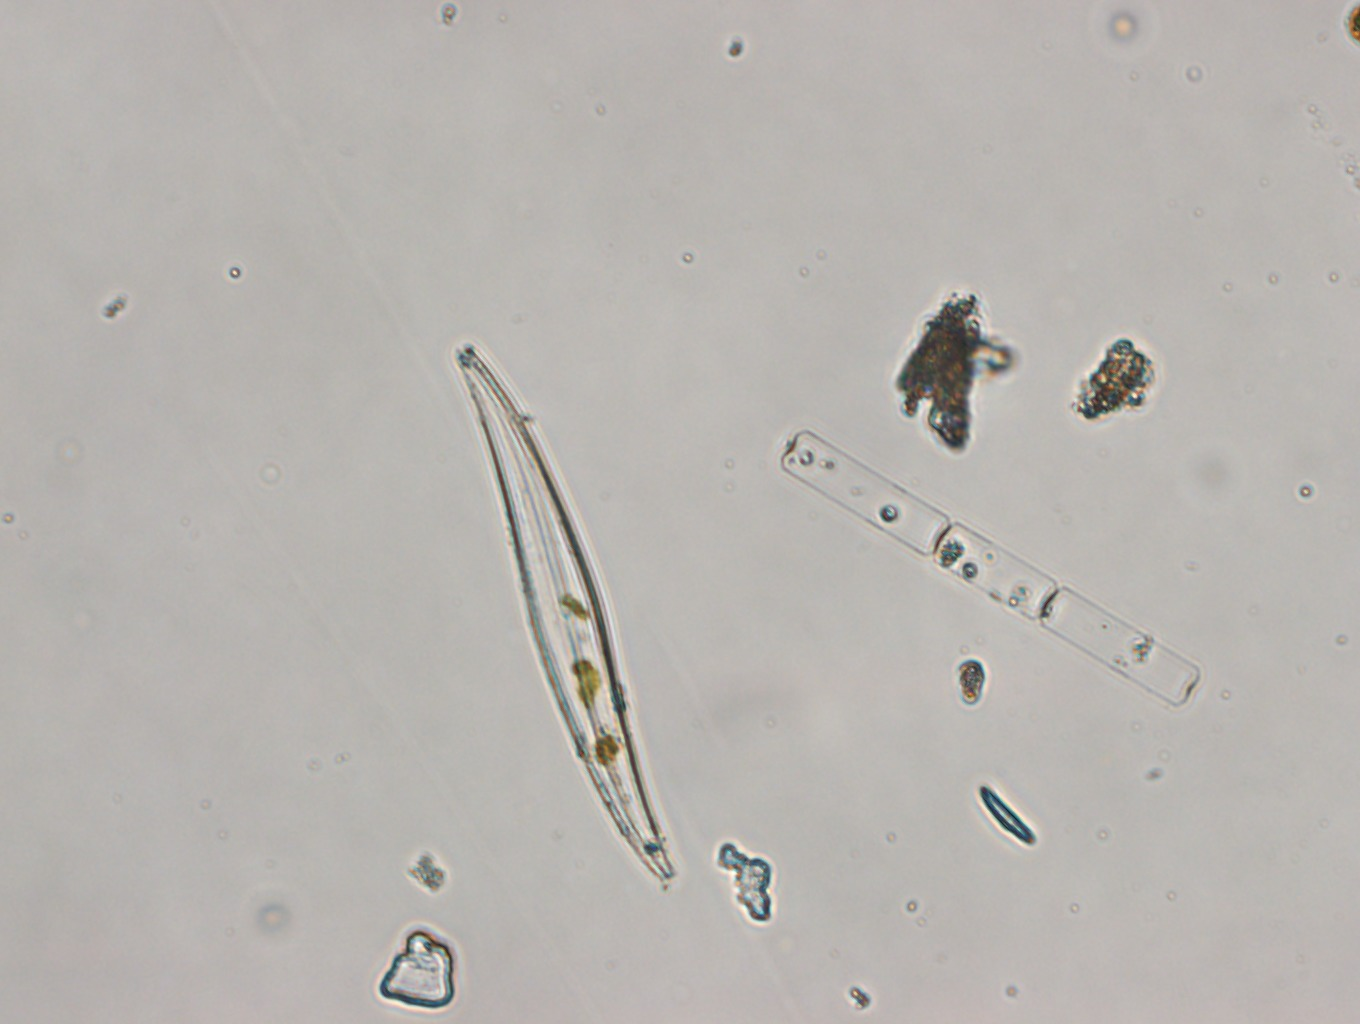pleurosigma pelagicum: (449, 343, 679, 886)
